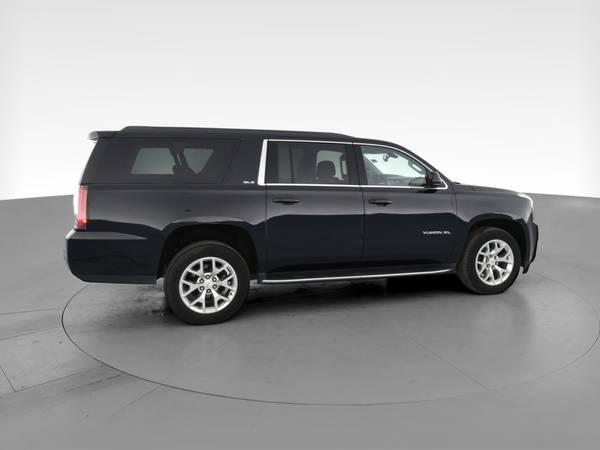Front_Fender: (438, 185, 538, 269)
Front_Right_Door: (362, 188, 457, 277)
Front_Right_Window: (354, 145, 445, 192)
Rear_Bumper: (63, 233, 163, 286)
Rear_Fender: (70, 134, 264, 278)
Rear_Right_Door: (264, 184, 366, 280)
Rear_Right_Window: (261, 141, 359, 187)
Right_Taillight: (70, 183, 88, 229)
Roof: (75, 123, 449, 185)
Wheel: (164, 242, 253, 325), (463, 228, 522, 294)
